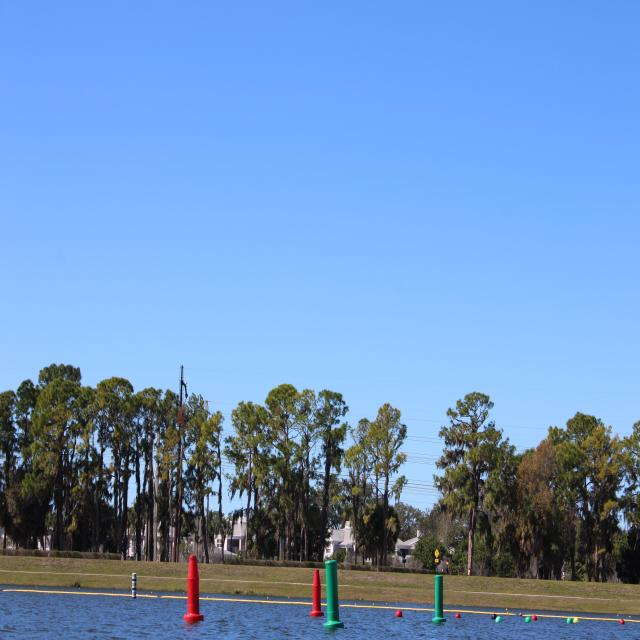green-buoy: (496, 618, 502, 625), (567, 619, 573, 625)
green-column-buoy: (324, 560, 342, 630), (432, 575, 446, 624)
red-buoy: (535, 617, 540, 623), (454, 614, 458, 621)
red-column-buoy: (184, 554, 203, 623), (312, 568, 324, 616)
